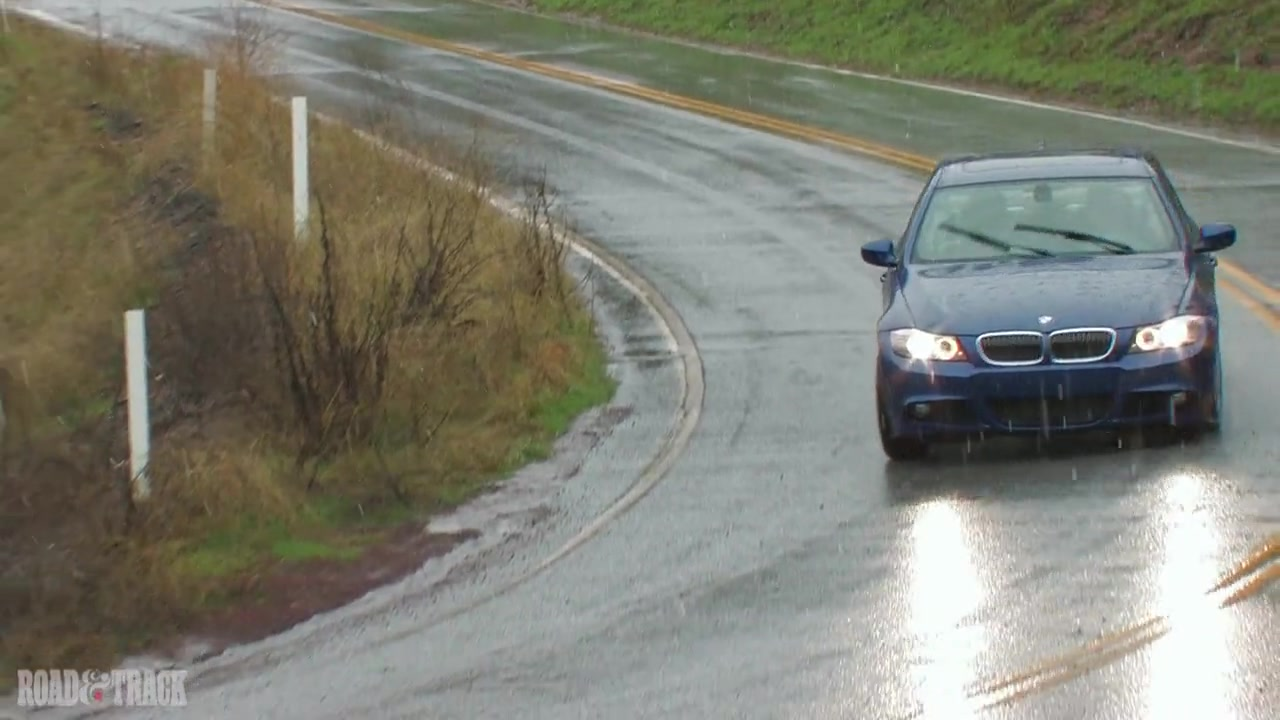car: (861, 155, 1239, 461)
